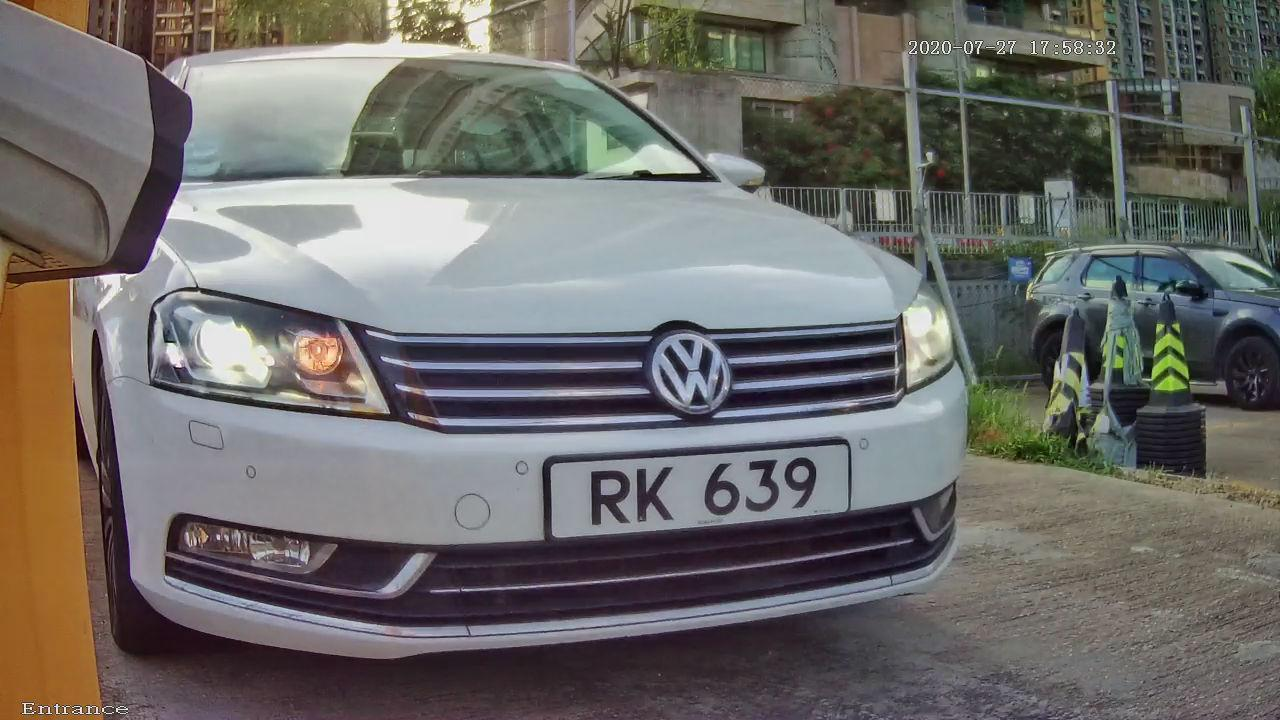privatecar: (81, 13, 1092, 685)
